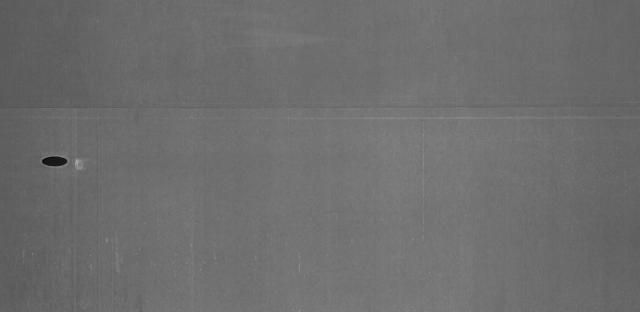punching_hole: (34, 148, 70, 172)
welding_line: (5, 98, 639, 115)
